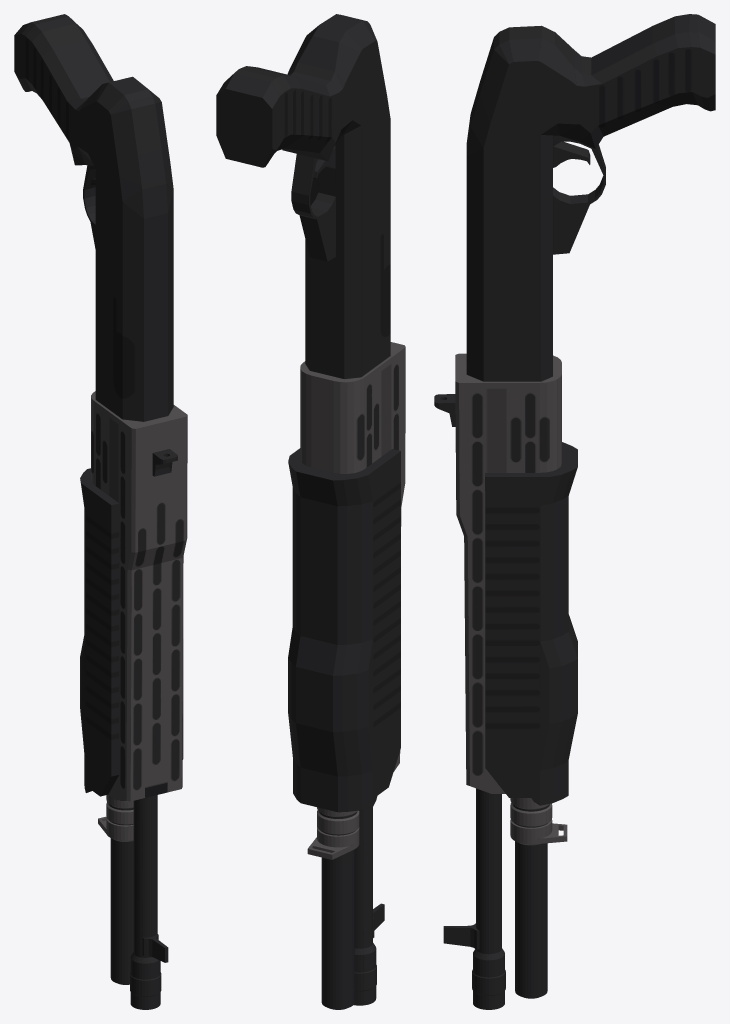
The model's file is spas12.fbx.
3 views of the same model, side by side, from view 1: azimuth 30°, elevation 25°; view 2: azimuth 150°, elevation 25°; view 3: azimuth 270°, elevation 25° (orthographic). The views are drawn at different scales.
Parts seen in each view (by area): view 1: SPAS-12; view 2: SPAS-12; view 3: SPAS-12.
Boxes of the visible parts, bbox=[...] form: SPAS-12: bbox=[14, 14, 187, 1009]; SPAS-12: bbox=[216, 14, 405, 1009]; SPAS-12: bbox=[434, 14, 715, 1009].
Size of the model in its own units: 0.0361 by 0.4388 by 0.1141.
